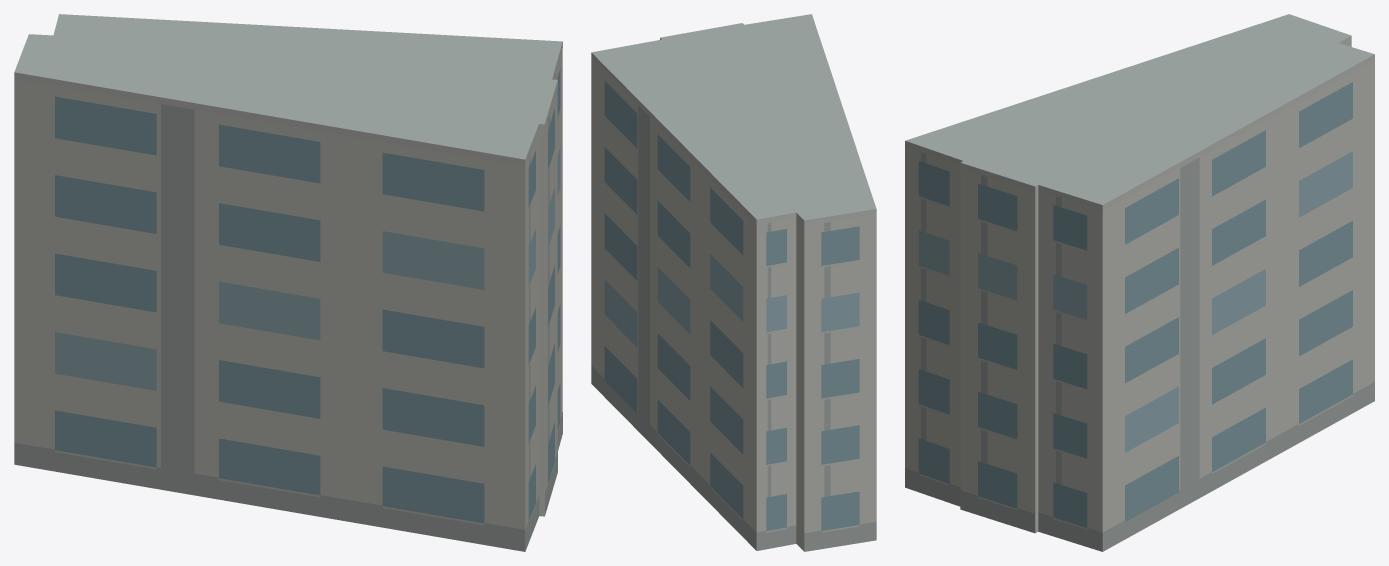
The model's file is survey-upis-32720748.glb.
The picture shows the model from 3 angles, left to right: view 1: azimuth 30°, elevation 25°; view 2: azimuth 150°, elevation 25°; view 3: azimuth 270°, elevation 25°; orthographic projection. The views are drawn at different scales.
Visible parts, largest first — view 1: survey-upis-32720748.tmp; view 2: survey-upis-32720748.tmp; view 3: survey-upis-32720748.tmp.
Part boxes in pixels (x1,y1,x2,y2): survey-upis-32720748.tmp: [14, 14, 562, 551]; survey-upis-32720748.tmp: [591, 14, 876, 551]; survey-upis-32720748.tmp: [905, 14, 1374, 551].
Bounding box in the file's own units: 17.02 × 14.4 × 17.69.
